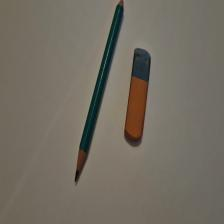eraser: (125, 48, 152, 142)
pencil: (75, 1, 125, 183)
